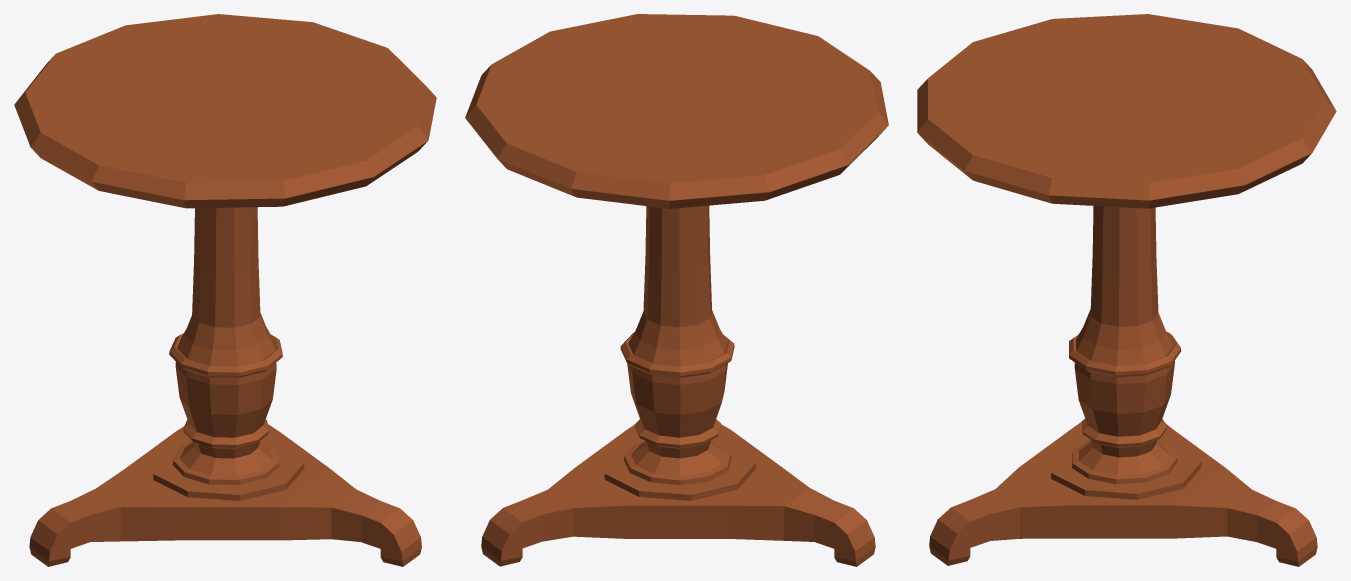
File: Mesa5.glb
3 views of the same model, side by side, from view 1: azimuth 30°, elevation 25°; view 2: azimuth 150°, elevation 25°; view 3: azimuth 270°, elevation 25° (orthographic).
Visible parts, largest first — view 1: Cilindro, Cubo, Cilindro.001; view 2: Cilindro, Cubo, Cilindro.001; view 3: Cilindro, Cubo, Cilindro.001.
Boxes of the visible parts, box(x1,y1,x2,y2) form: Cilindro: box(14, 14, 436, 208); Cubo: box(29, 424, 421, 566); Cilindro.001: box(169, 207, 282, 484); Cilindro: box(465, 14, 888, 208); Cubo: box(481, 424, 875, 566); Cilindro.001: box(620, 205, 734, 485); Cilindro: box(917, 14, 1336, 208); Cubo: box(929, 421, 1317, 566); Cilindro.001: box(1069, 206, 1181, 484).
Bounding box in the file's own units: 2.31 × 2.49 × 2.27.
